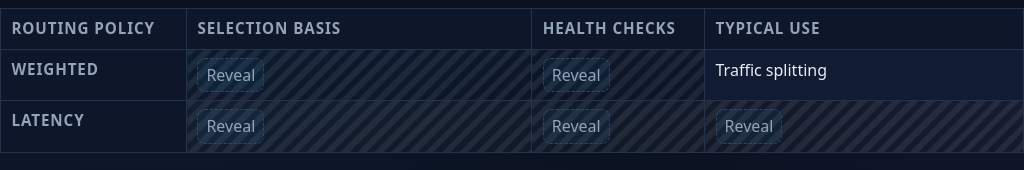
Test: ProgressiveLearningTable — cell mode › reveals only the clicked cell
Click the button with aria-label "Reveal Selection basis for Weighted" at (231, 75), box x1=197 y1=58 x2=264 y2=92
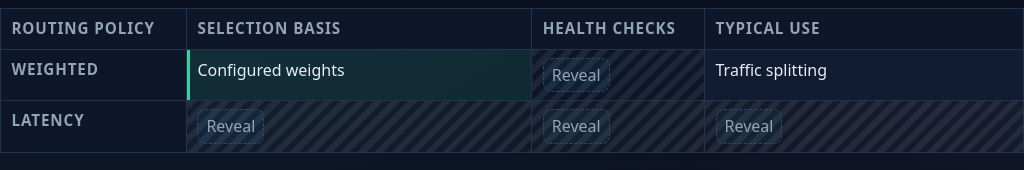
Expected: the text "Configured weights" is shown, x1=197 y1=59 x2=345 y2=81
